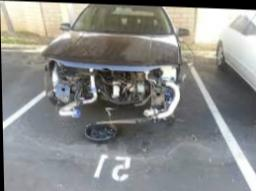Bumper: (46, 73, 178, 120)
Light: (149, 63, 177, 82), (42, 61, 69, 76)
